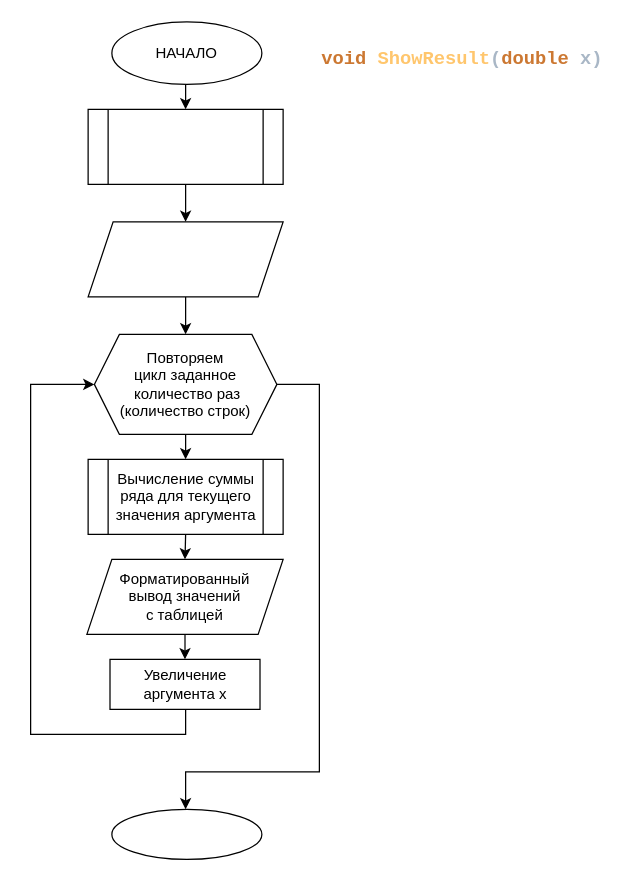
This 625x881 diagram has some shape labels left out. The shapes that lost their labels are listed below. From the top down, each one's centre as x and y in pixels, then its label:
At (185,146): "Вычисление количества просуммированных членов ряда".
At (185,259): "Вывод количества просуммированных членов ряда".
At (186,833): "КОНЕЦ".
